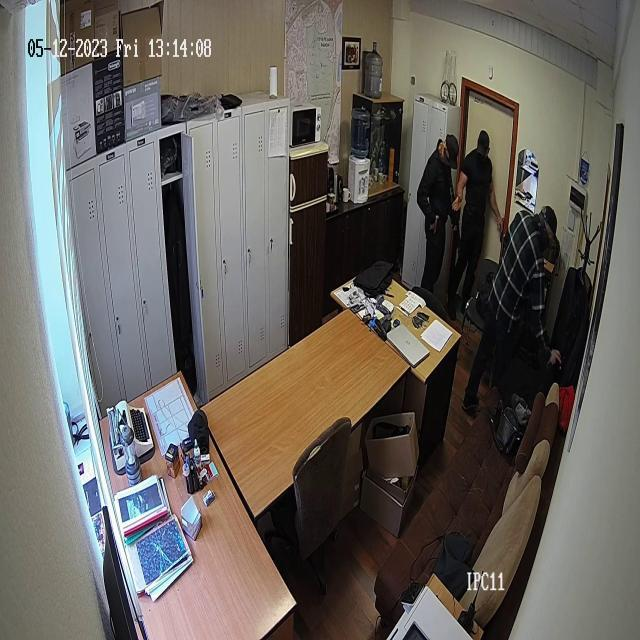pistol: (449, 198, 462, 253)
